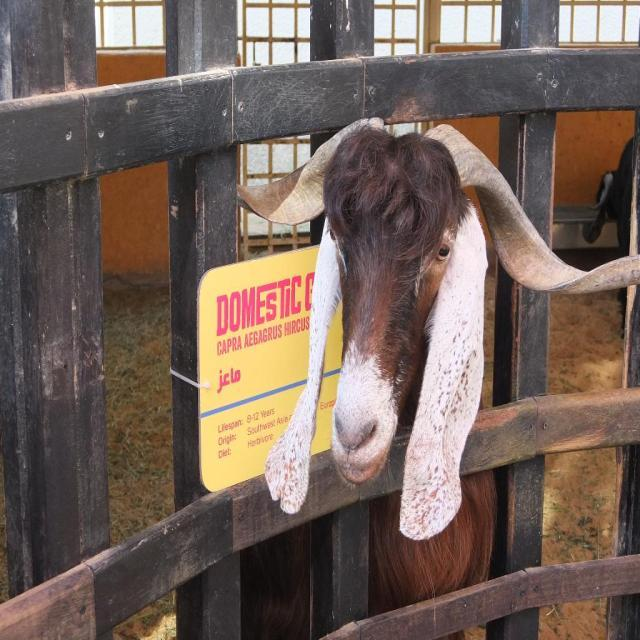Goat: (232, 115, 637, 638), (581, 134, 637, 339)
